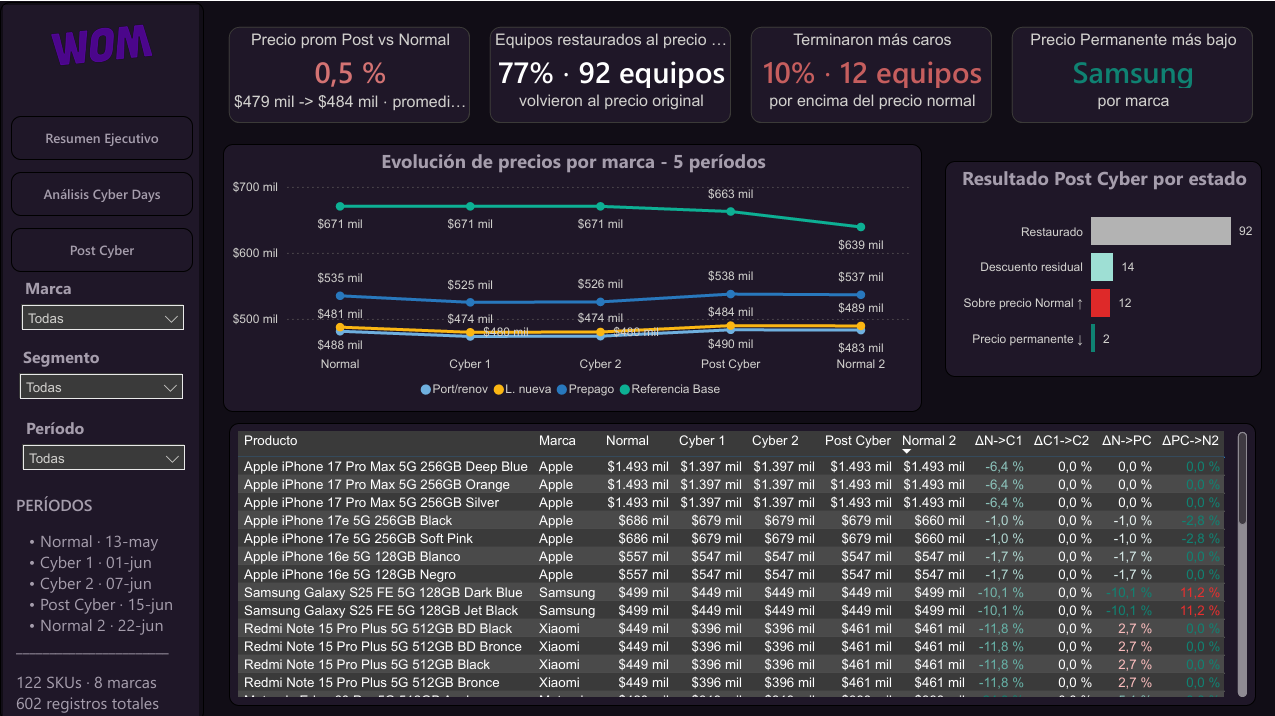

The dashboard page shown, as its layout file describes it:
{"tool":"powerbi","page":{"name":"Post Cyber","canvas":[1280,720],"ordinal":2},"visuals":[{"type":"cardVisual","fields":{"Data":["WOM.Δ Normal a Post %","WOM.KPI 1","WOM.KPI 2","WOM.KPI Marca Precio Permanente"]},"box":[204.1,0,1075.7,145.9],"z":0},{"type":"shape","box":[0,0,204.3,719.7],"z":1000},{"type":"image","box":[10.3,12.9,182.5,60.4],"z":2000},{"type":"lineChart","title":"Evolución de precios por marca - 5 períodos","fields":{"Y":["WOM.Precio Port Por Período","WOM.Precio Prom Linea Nueva","WOM.Precio Prom Prepago","WOM.Precio Base Por Período"],"Category":["WOM.periodo"]},"box":[223.3,142.4,698.4,267.7],"z":3000},{"type":"slicer","fields":{"Values":["WOM.marca"]},"box":[11.6,269.6,182.6,58],"z":4000},{"type":"slicer","fields":{"Values":["WOM.segmento"]},"box":[10.1,339.1,182.6,82.6],"z":5000},{"type":"textbox","box":[11.4,471.6,183.4,248.4],"z":6000},{"type":"slicer","fields":{"Values":["WOM.periodo"]},"box":[12.5,410.1,182.3,83.2],"z":7000},{"type":"tableEx","fields":{"Values":["WOM.producto","WOM.marca","WOM.Precio Port Normal","WOM.Precio Port Cyber1","WOM.Precio Port Cyber2","WOM.Precio Port Post","WOM.Precio Port Normal 2","WOM.Δ Normal a Cyber1 %","WOM.Δ Cyber1 a Cyber2 %","WOM.Δ Normal a Post %","WOM.Δ Post a Normal 2 %"]},"box":[228.8,421.2,1026.9,282.7],"z":8000},{"type":"shape","box":[11.4,169.7,181.1,44.4],"z":9000},{"type":"shape","box":[11.4,225.6,181.1,44.4],"z":10000},{"type":"shape","box":[11.4,113.9,181.1,44.4],"z":11000},{"type":"clusteredBarChart","title":"Resultado Post Cyber por estado","fields":{"Category":["WOM.Alerta Post"],"Y":["WOM.equipos solo post"]},"box":[944.6,159.4,317.4,215.9],"z":12000}]}

Visuals, with their boxes on the page's 1280x720 design canvas (x1, y1, x2, y2). These are canvas units, not pixel positions in the 1275x716 screenshot, which may show the page scaled, cropped or inside an application window:
cardVisual - WOM.Δ Normal a Post % x WOM.KPI 1: {"x1": 204, "y1": 0, "x2": 1280, "y2": 146}
shape: {"x1": 0, "y1": 0, "x2": 204, "y2": 720}
image: {"x1": 10, "y1": 13, "x2": 193, "y2": 73}
"Evolución de precios por marca - 5 períodos" lineChart: {"x1": 223, "y1": 142, "x2": 922, "y2": 410}
slicer - WOM.marca: {"x1": 12, "y1": 270, "x2": 194, "y2": 328}
slicer - WOM.segmento: {"x1": 10, "y1": 339, "x2": 193, "y2": 422}
textbox: {"x1": 11, "y1": 472, "x2": 195, "y2": 720}
slicer - WOM.periodo: {"x1": 12, "y1": 410, "x2": 195, "y2": 493}
tableEx - WOM.producto x WOM.marca: {"x1": 229, "y1": 421, "x2": 1256, "y2": 704}
shape: {"x1": 11, "y1": 170, "x2": 192, "y2": 214}
shape: {"x1": 11, "y1": 226, "x2": 192, "y2": 270}
shape: {"x1": 11, "y1": 114, "x2": 192, "y2": 158}
"Resultado Post Cyber por estado" clusteredBarChart: {"x1": 945, "y1": 159, "x2": 1262, "y2": 375}
